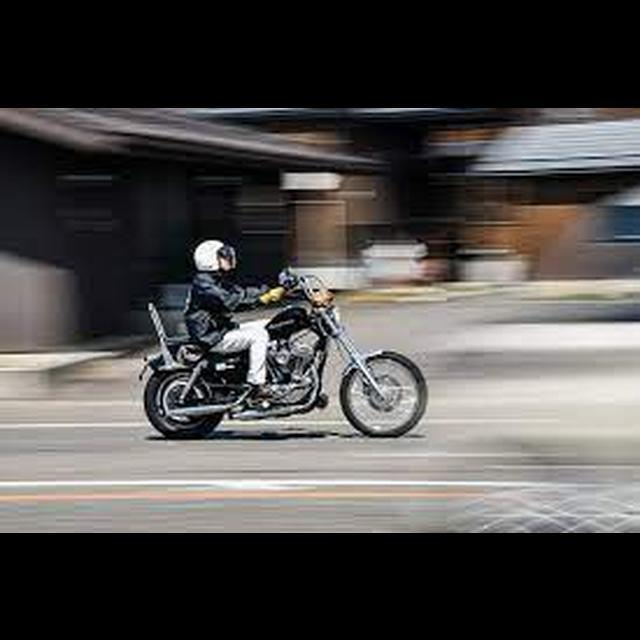motorcycle: (139, 267, 431, 444)
